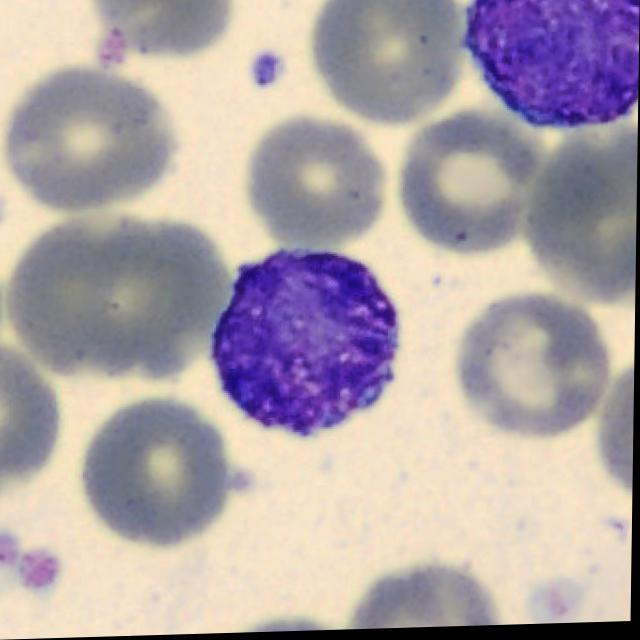Linfocito: (211, 254, 399, 441), (462, 0, 640, 131)
